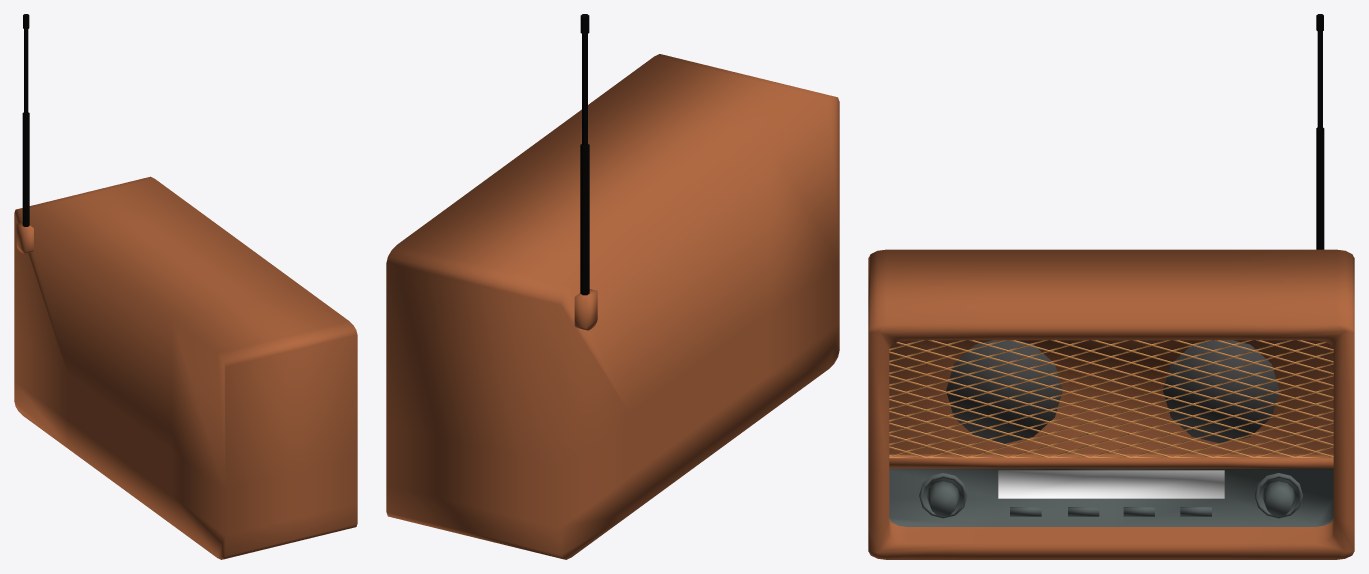
File: Radio.fbx
3 renders of one model, left to right at view 1: azimuth 30°, elevation 25°; view 2: azimuth 150°, elevation 25°; view 3: azimuth 270°, elevation 25°, orthographic. The views are drawn at different scales.
Parts seen in each view (by area): view 1: Main, Antenna; view 2: Main, Antenna; view 3: Main, Grill, Antenna.
Boxes of the visible parts, left/top/right/bottom form: Main: left=14, top=176, right=357, bottom=559; Antenna: left=22, top=14, right=29, bottom=226; Main: left=386, top=54, right=839, bottom=559; Antenna: left=580, top=14, right=589, bottom=295; Main: left=868, top=249, right=1354, bottom=559; Grill: left=889, top=340, right=1333, bottom=457; Antenna: left=1316, top=14, right=1324, bottom=249.
Bounding box in the file's own units: 13.47 × 37.23 × 35.06.
